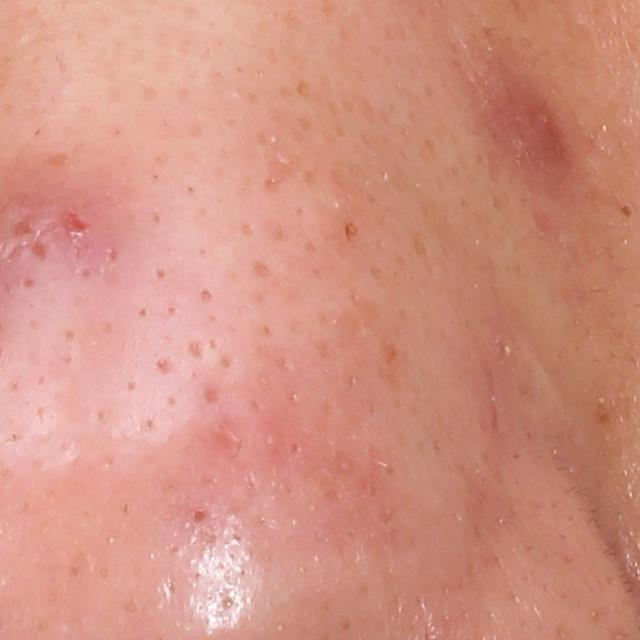comedo: (190, 507, 207, 524)
papule: (477, 46, 568, 169)
